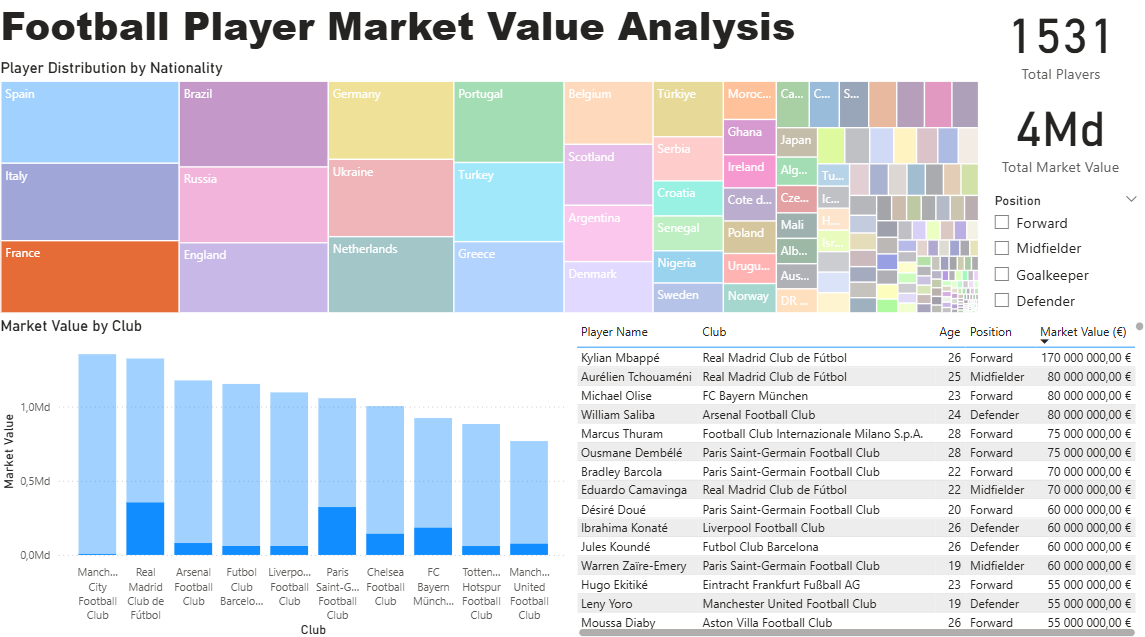

This screenshot's page, from the dashboard's own definition file:
{"tool":"powerbi","page":{"name":"Page 1","canvas":[1280,720],"ordinal":0},"visuals":[{"type":"textbox","box":[0,0,917.5,72.5],"z":0},{"type":"card","fields":{"Values":["players.Valeur Marchande Totale"]},"box":[1085,101.2,195,105],"z":1000},{"type":"card","title":"Total Players","fields":{"Values":["players.Nombre de Joueurs"]},"box":[1091.2,0,182.5,101.2],"z":2000},{"type":"columnChart","title":"Market Value by Club","fields":{"Y":["players.Valeur Marchande Totale"],"Category":["players.current_club_name"]},"box":[0,360,640,360],"z":3000},{"type":"treemap","title":"Player Distribution by Nationality","fields":{"Group":["players.country_of_citizenship"],"Values":["players.Nombre de Joueurs"]},"box":[0,72.7,1096.4,286.8],"z":4000},{"type":"tableEx","fields":{"Values":["players.name","players.current_club_name","Sum(players.Âge)","players.Position_English","Sum(players.market_value_in_eur)"]},"box":[640,360,640,360],"z":5000},{"type":"slicer","fields":{"Values":["players.Position_English"]},"box":[1096.2,216.2,183.8,143.8],"z":6000}]}

Visuals, with their boxes in screenshot pixels (x1, y1, x2, y2), scaled from the page's 1280x720 canvas onto the 1145x637 screenshot:
textbox: {"left": 0, "top": 0, "right": 821, "bottom": 64}
card - players.Valeur Marchande Totale: {"left": 971, "top": 90, "right": 1144, "bottom": 182}
"Total Players" card: {"left": 976, "top": 0, "right": 1139, "bottom": 90}
"Market Value by Club" columnChart: {"left": 0, "top": 318, "right": 572, "bottom": 636}
"Player Distribution by Nationality" treemap: {"left": 0, "top": 64, "right": 981, "bottom": 318}
tableEx - players.name x players.current_club_name: {"left": 572, "top": 318, "right": 1144, "bottom": 636}
slicer - players.Position_English: {"left": 981, "top": 191, "right": 1144, "bottom": 318}
